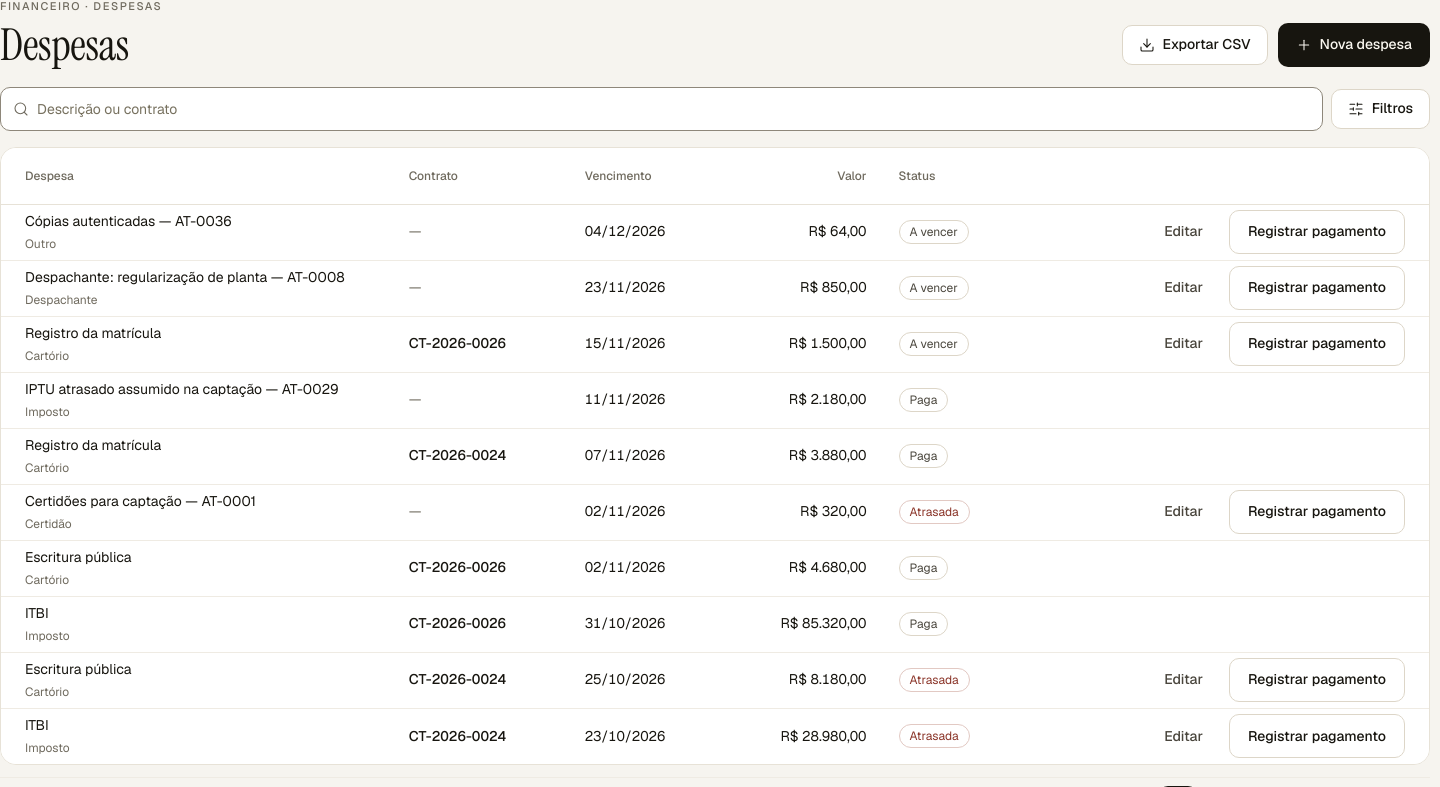
Test: TelaDespesas (RF-78) › lança uma despesa pelo diálogo, com validação inline
Click the button "Nova despesa".
click(1354, 45)  # box [1278,23,1430,67]
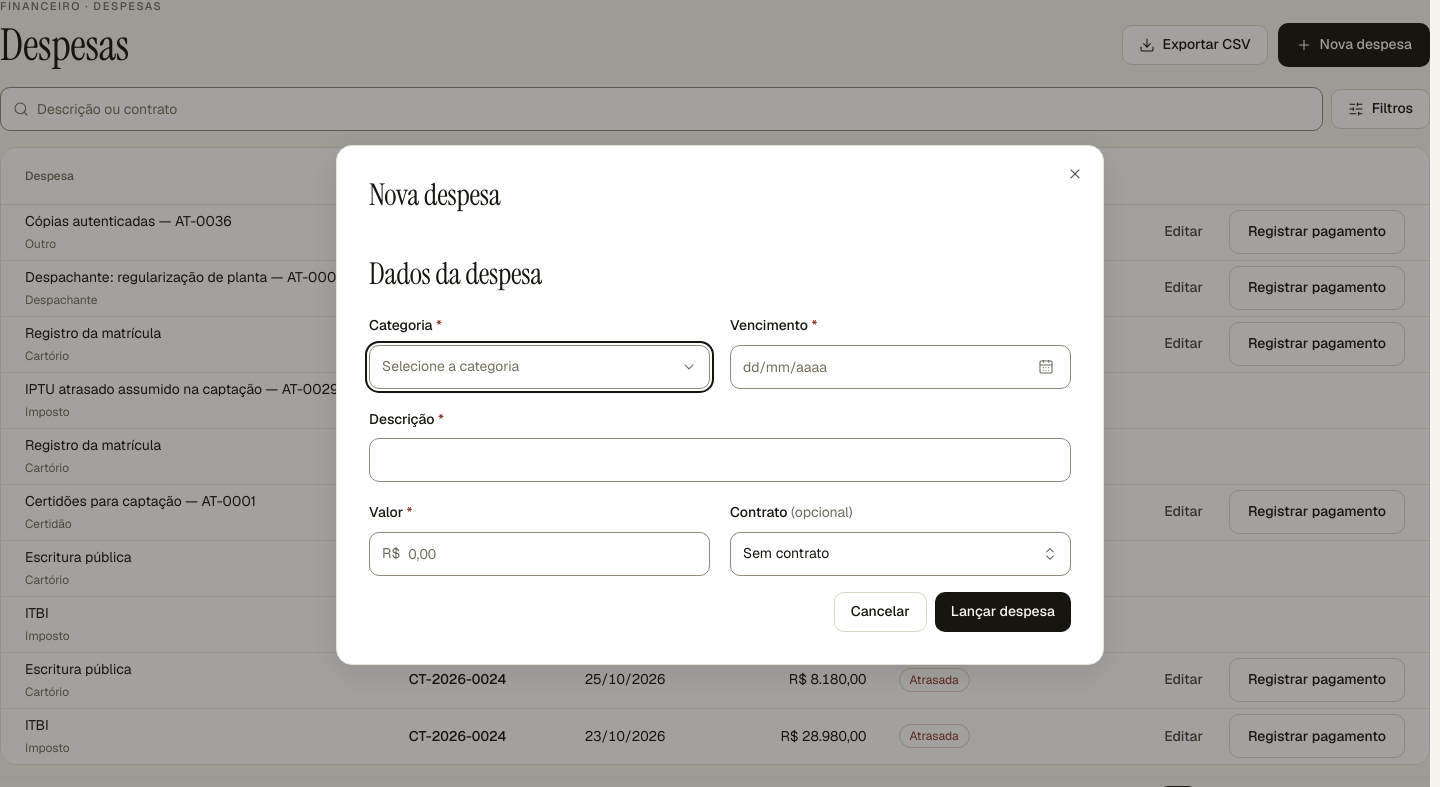
Click the button "Lançar despesa".
click(1003, 612)  # box [935,592,1071,632]
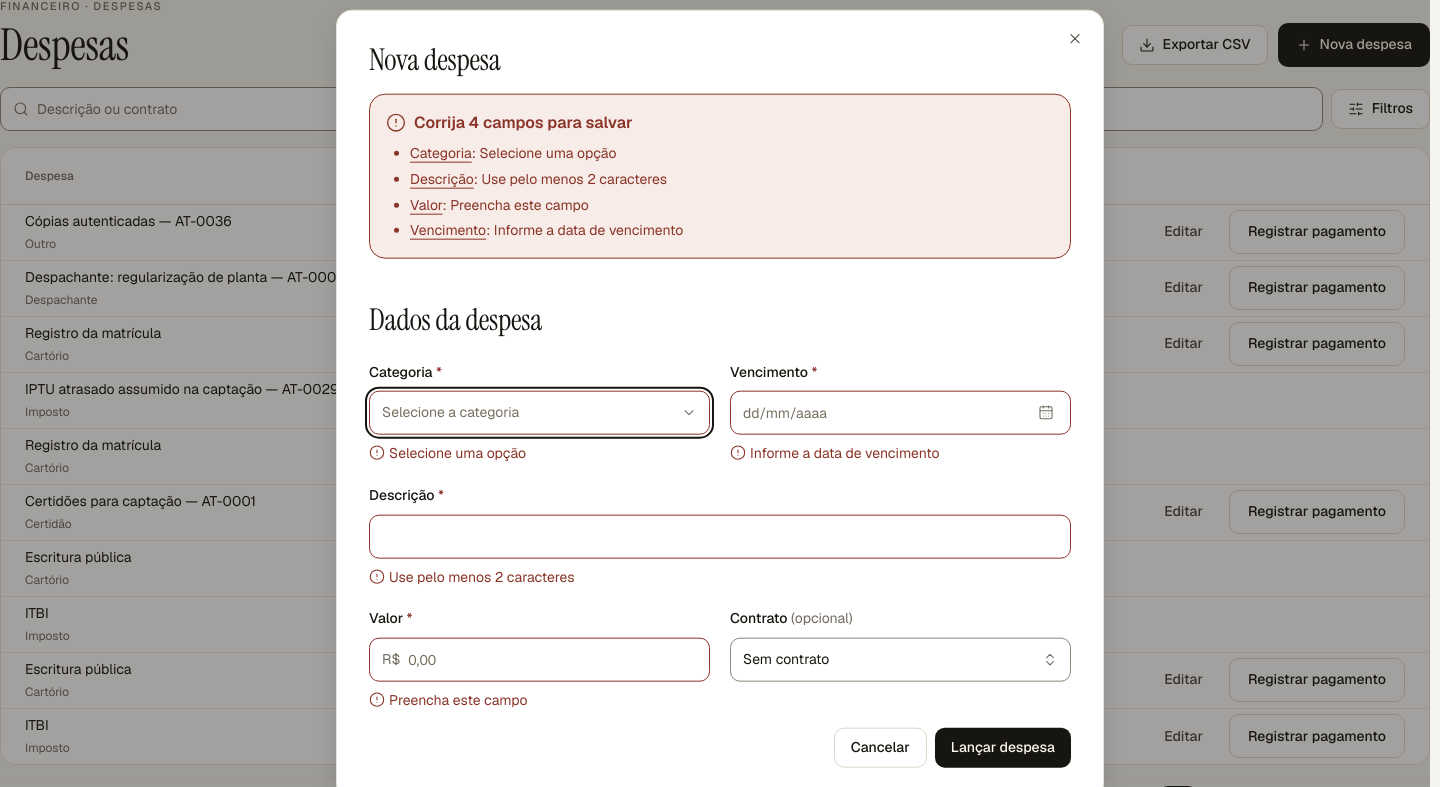
expect the field labelled "Descrição *" is shown: met, box [382,515,1058,557]
expect the list item "Categoria : Selecione uma opção" is shown: met, box [410,144,616,162]
